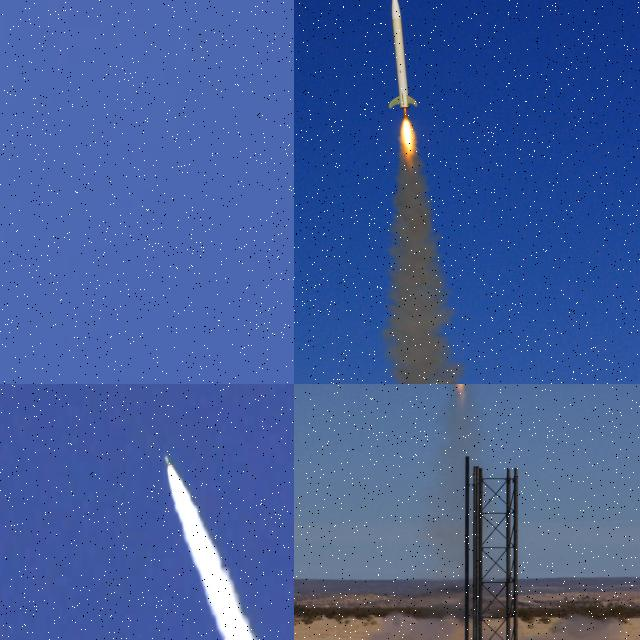Rocket: (388, 0, 418, 110), (164, 453, 172, 468)
